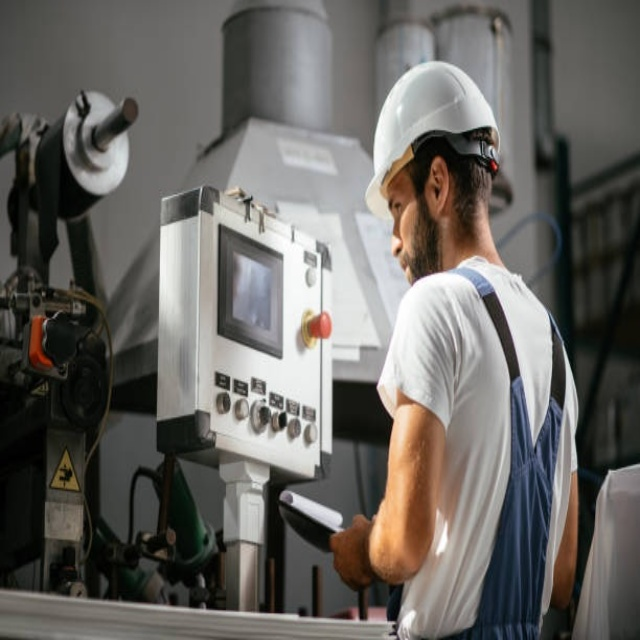Sin_gafas: (386, 184, 418, 224)
Sin_guantes: (329, 513, 378, 590)
Sin_mascara: (393, 242, 420, 289)
